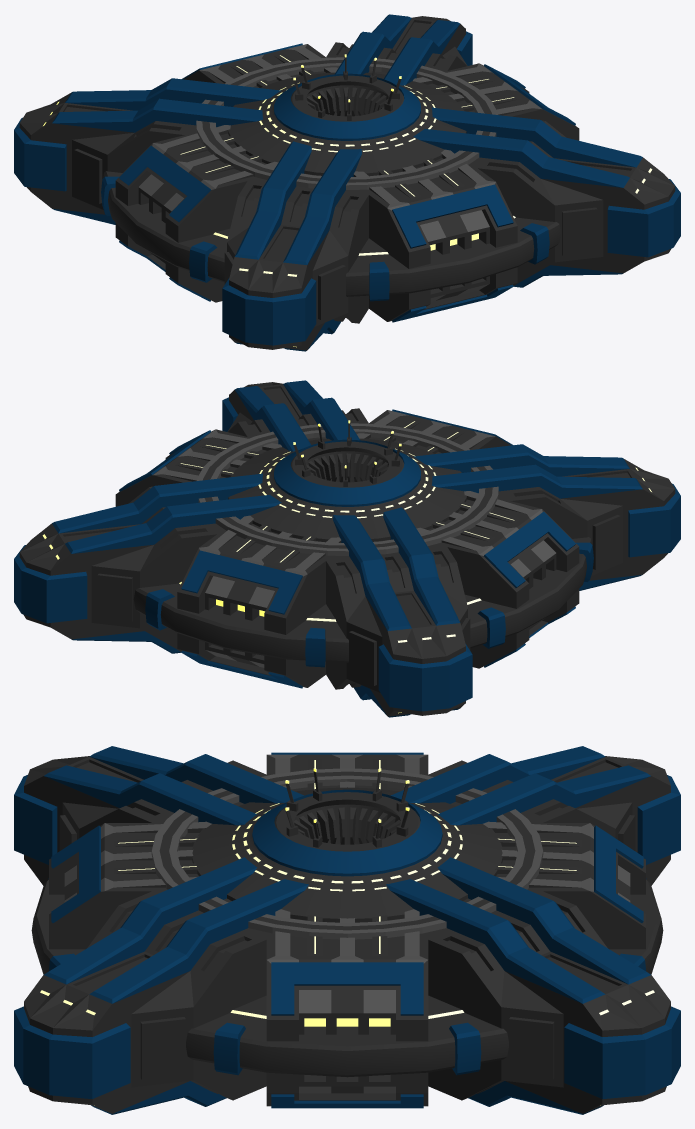
Rendered from 01_platform_5x5_heavy_mk2.glb.
3 views of the same model, one above another, from view 1: azimuth 30°, elevation 25°; view 2: azimuth 150°, elevation 25°; view 3: azimuth 270°, elevation 25° (orthographic). The views are drawn at different scales.
Parts seen in each view (by area): view 1: 01_platform_5x5_heavy, 01_platform_5x5_heavy_cor; view 2: 01_platform_5x5_heavy, 01_platform_5x5_heavy_cor; view 3: 01_platform_5x5_heavy, 01_platform_5x5_heavy_cor.
Part boxes in pixels (bbox=[...]): 01_platform_5x5_heavy: bbox=[14, 14, 680, 351]; 01_platform_5x5_heavy_cor: bbox=[306, 85, 388, 116]; 01_platform_5x5_heavy: bbox=[14, 380, 680, 717]; 01_platform_5x5_heavy_cor: bbox=[306, 451, 388, 482]; 01_platform_5x5_heavy: bbox=[14, 746, 680, 1114]; 01_platform_5x5_heavy_cor: bbox=[294, 804, 400, 844].
Size of the model in its own units: 1 by 0.4511 by 1.
